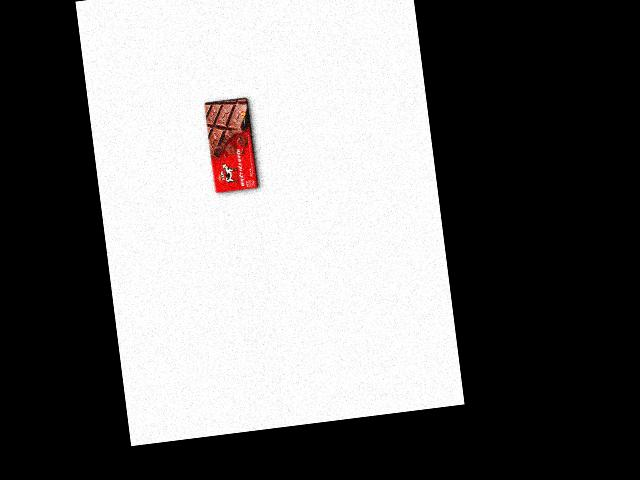chocolate: (201, 95, 262, 196)
